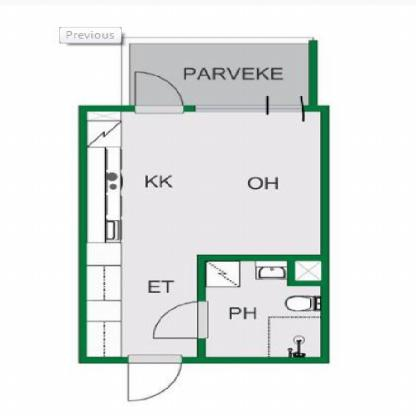door: (126, 354, 188, 404), (146, 302, 212, 338), (136, 70, 182, 110)
window: (197, 104, 302, 115)
zone: (89, 112, 318, 357), (133, 43, 308, 104), (208, 262, 317, 358)
